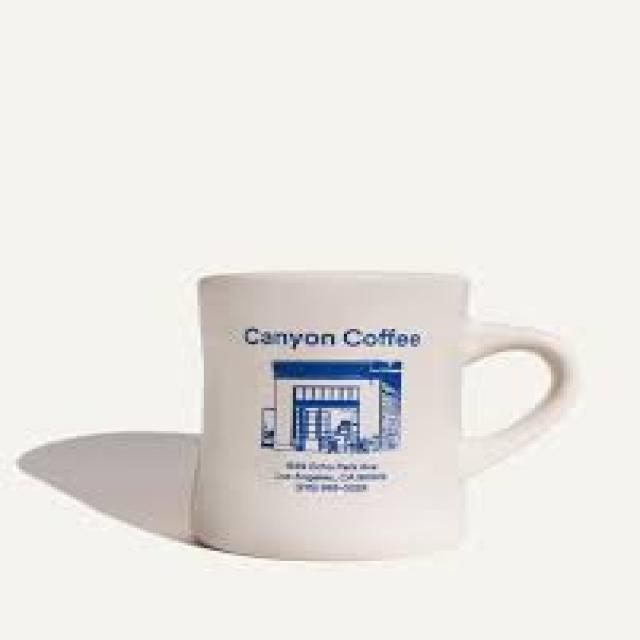taza: (195, 268, 578, 563)
